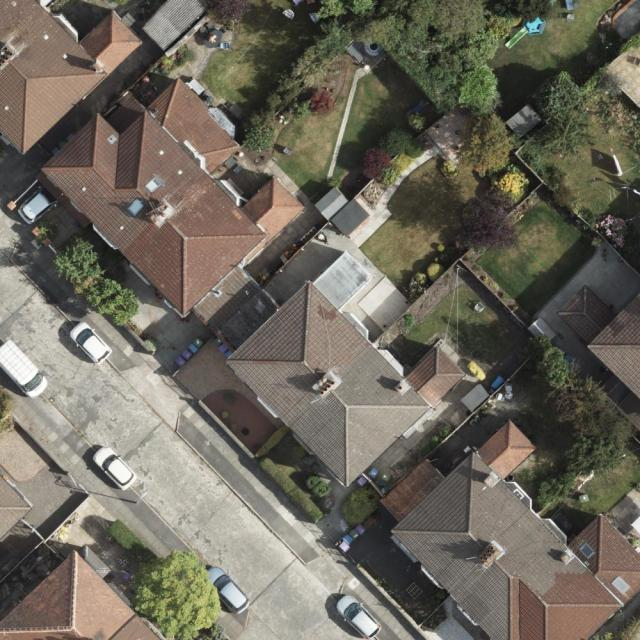roof: (39, 76, 466, 487), (382, 420, 640, 640), (0, 0, 143, 156), (0, 545, 168, 640), (558, 284, 640, 403), (0, 469, 34, 540)
skylight: (610, 573, 634, 597), (124, 197, 147, 220), (144, 175, 164, 194), (579, 541, 598, 558)
